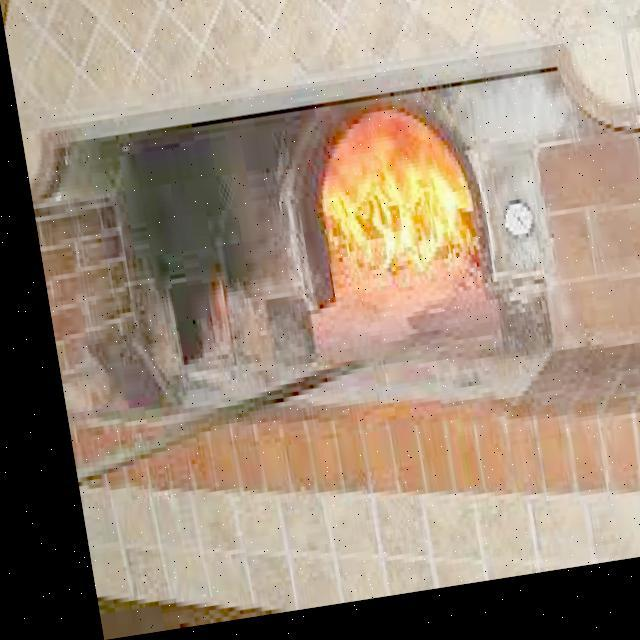Fire: (287, 104, 484, 338)
